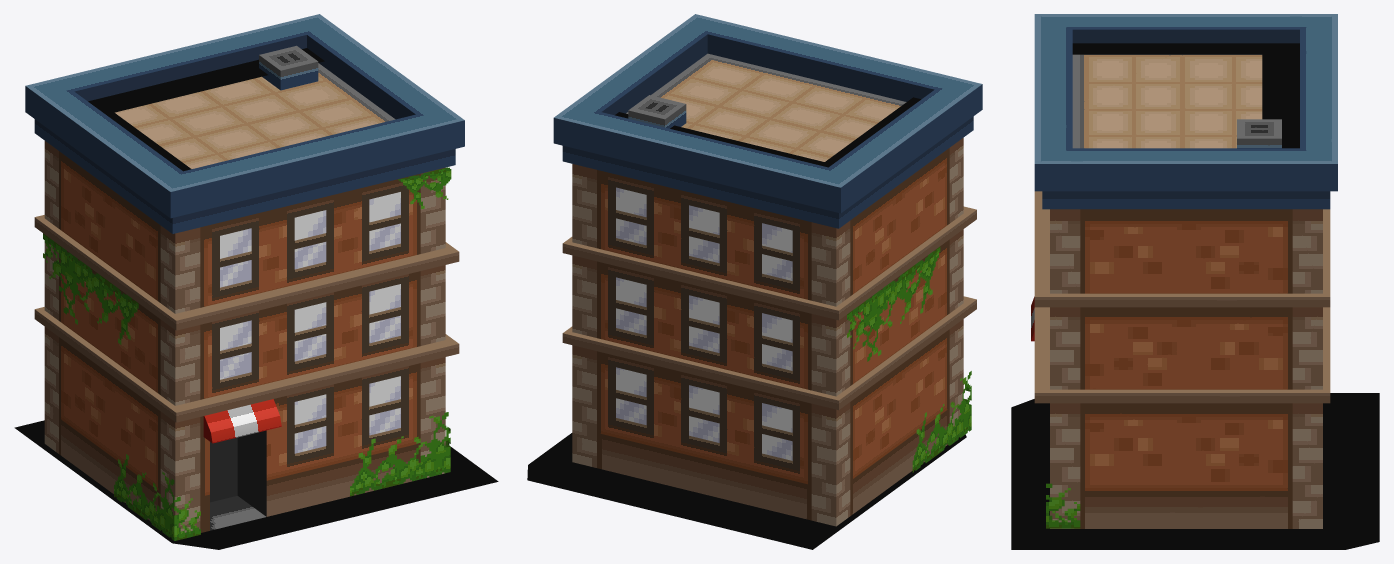
Rendered from Accumula.obj.
3 views of the same model, side by side, from view 1: azimuth 30°, elevation 25°; view 2: azimuth 150°, elevation 25°; view 3: azimuth 270°, elevation 25° (orthographic). The views are drawn at different scales.
Visible parts, largest first — view 1: polygon4, polygon3, polygon2, polygon0, polygon1; view 2: polygon4, polygon3, polygon0, polygon2, polygon1; view 3: polygon4, polygon3, polygon2, polygon1.
Boxes of the visible parts, box(x1,y1,x2,y2) form: polygon4: box(34, 141, 459, 532); polygon3: box(25, 14, 464, 530); polygon2: box(14, 48, 498, 549); polygon0: box(220, 192, 400, 453); polygon1: box(43, 167, 451, 540); polygon4: box(562, 138, 976, 526); polygon3: box(553, 14, 982, 228); polygon0: box(616, 187, 792, 460); polygon2: box(527, 97, 966, 549); polygon1: box(847, 246, 971, 472); polygon4: box(1034, 191, 1330, 528); polygon3: box(1031, 14, 1337, 341); polygon2: box(1011, 43, 1379, 549); polygon1: box(1046, 483, 1080, 528).
Size of the model in its own units: 101 by 109 by 97.19.
Materials: 5 (5 with a texture image).
